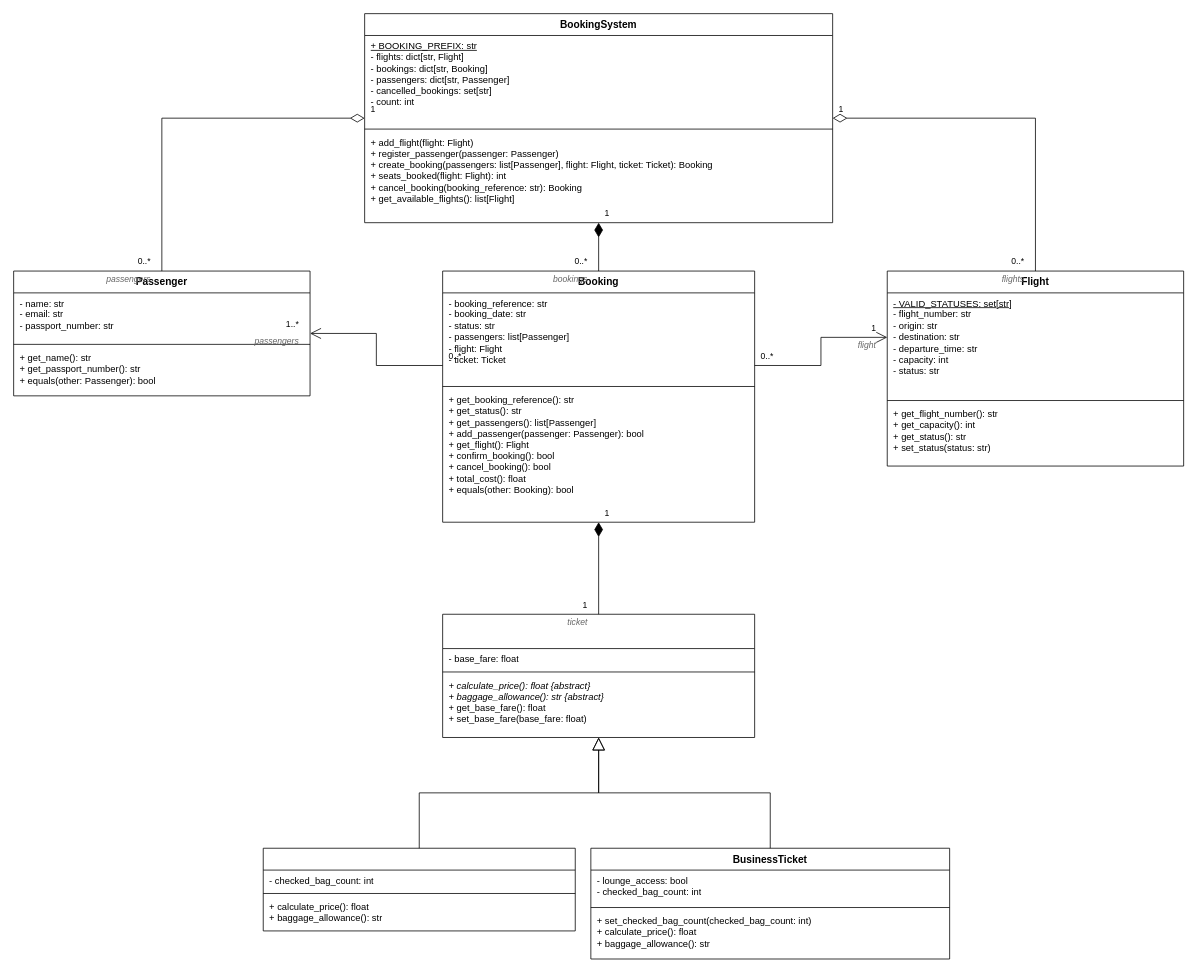
Image size: 1197x975. Some labels were removed from this diagram. Here are the shapes that lost their labels. From the top down, the box of each, then its label:
(442, 613, 755, 737): «abstract» Ticket
(262, 847, 575, 931): EconomyTicket
